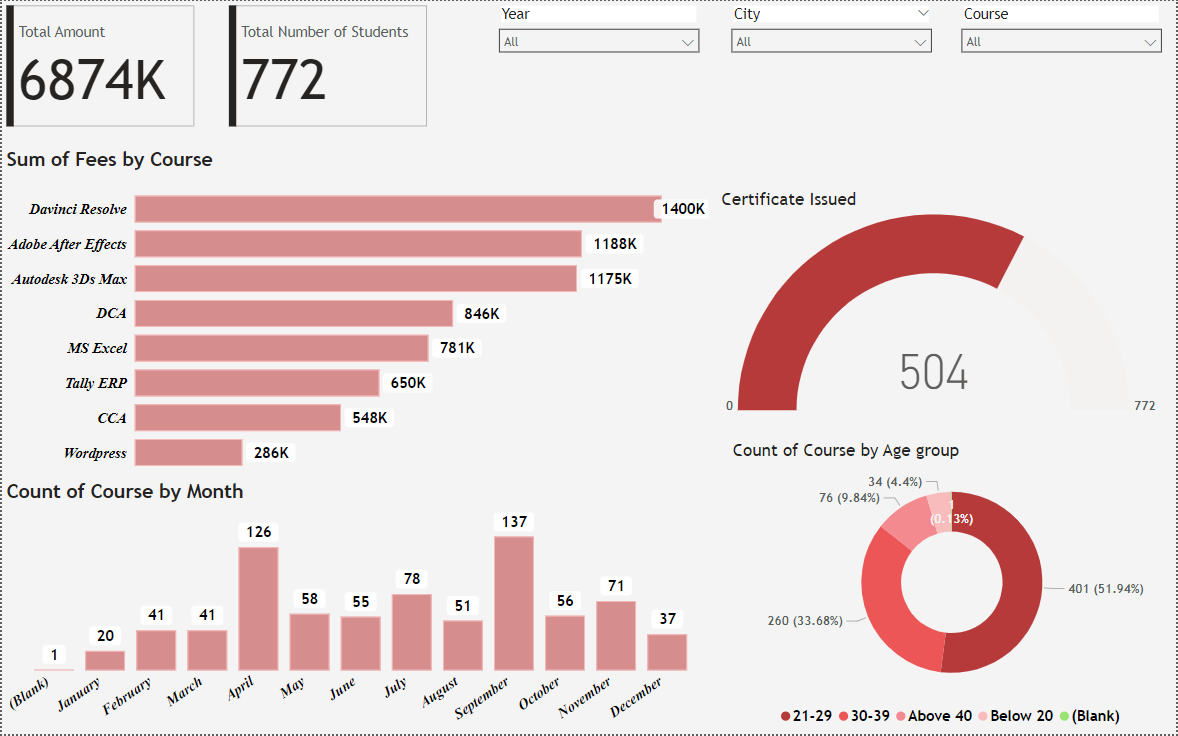

The dashboard page shown, as its layout file describes it:
{"tool":"powerbi","page":{"name":"Page 1","canvas":[1280,800],"ordinal":0},"visuals":[{"type":"clusteredColumnChart","fields":{"Category":["Student Course Details.Date.Variation.Date Hierarchy.Year","Student Course Details.Date.Variation.Date Hierarchy.Quarter","Student Course Details.Date.Variation.Date Hierarchy.Month","Student Course Details.Date.Variation.Date Hierarchy.Day"],"Y":["Student Course Details.Course"]},"box":[0,522.8,779.4,277.2],"z":0},{"type":"donutChart","fields":{"Y":["Student Course Details.Course"],"Category":["Student Course Details.Age group"]},"box":[792.1,478.5,488.1,321.7],"z":1000},{"type":"clusteredBarChart","fields":{"Category":["Student Course Details.Course"],"Y":["Student Course Details.Fees"]},"box":[0,159.2,779.4,363.6],"z":2000},{"type":"gauge","fields":{"Y":["Personal Details.countYes"]},"box":[779.4,204.5,488.5,253.9],"z":3000},{"type":"cardVisual","title":"Total Amount","fields":{"Data":["Student Course Details.Fees"]},"box":[0,0,215.4,142.7],"z":4000},{"type":"cardVisual","fields":{"Data":["Personal Details.Student Name"]},"box":[242.9,0,226.4,142.7],"z":5000},{"type":"slicer","title":"H","fields":{"Values":["Student Course Details.Date.Variation.Date Hierarchy.Year"]},"box":[531,0,238.8,91.9],"z":6000},{"type":"slicer","title":"H","fields":{"Values":["Personal Details.City"]},"box":[784.9,0,238.8,91.9],"z":7000},{"type":"slicer","title":"H","fields":{"Values":["Student Course Details.Course"]},"box":[1036,0,238.8,91.9],"z":8000}]}

Visuals, with their boxes in screenshot pixels (x1, y1, x2, y2), scaled from the page's 1280x800 canvas onto the 1178x736 screenshot:
clusteredColumnChart - Student Course Details.Date.Variation.Date Hierarchy.Year x Student Course Details.Date.Variation.Date Hierarchy.Quarter: pyautogui.locateOnScreen(0, 481, 717, 735)
donutChart - Student Course Details.Course x Student Course Details.Age group: pyautogui.locateOnScreen(729, 440, 1177, 735)
clusteredBarChart - Student Course Details.Course x Student Course Details.Fees: pyautogui.locateOnScreen(0, 146, 717, 481)
gauge - Personal Details.countYes: pyautogui.locateOnScreen(717, 188, 1167, 422)
"Total Amount" cardVisual: pyautogui.locateOnScreen(0, 0, 198, 131)
cardVisual - Personal Details.Student Name: pyautogui.locateOnScreen(224, 0, 432, 131)
"H" slicer: pyautogui.locateOnScreen(489, 0, 708, 85)
"H" slicer: pyautogui.locateOnScreen(722, 0, 942, 85)
"H" slicer: pyautogui.locateOnScreen(953, 0, 1173, 85)
